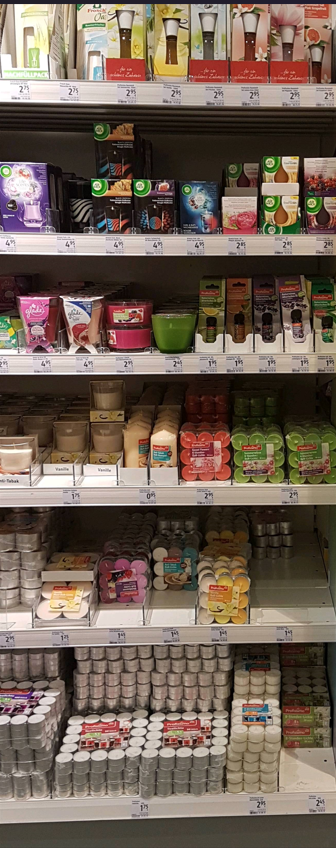Misplacement: (93, 558, 143, 627)
